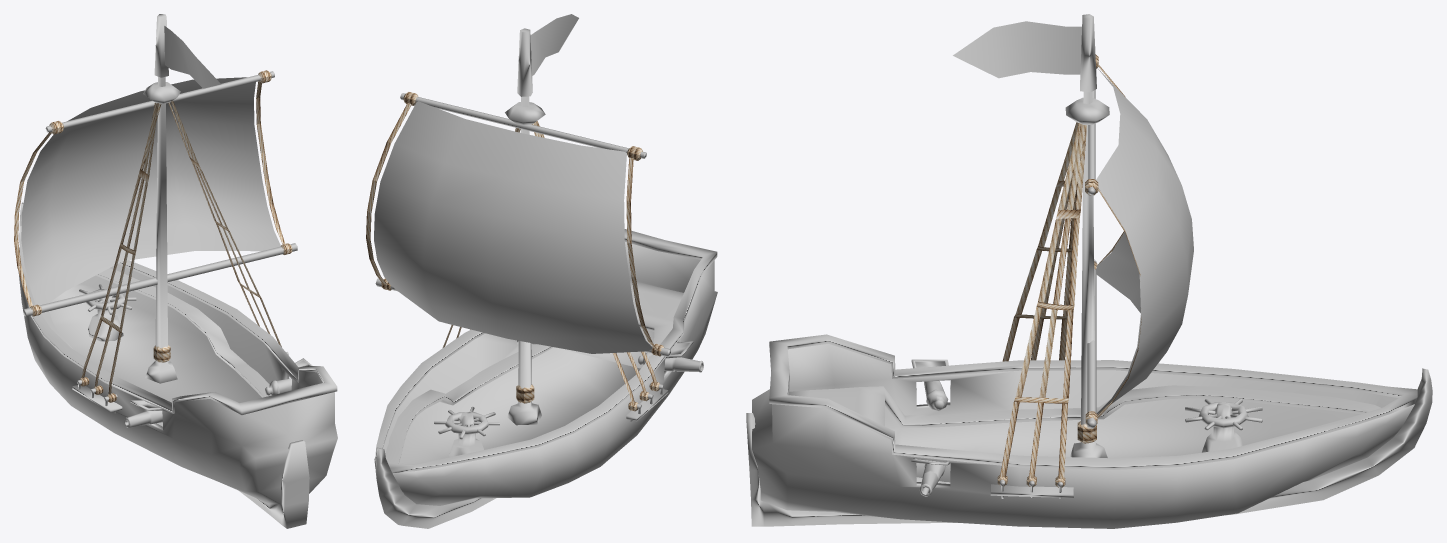
Rendered from NPC_one_sail.fbx.
3 views of the same model, side by side, from view 1: azimuth 30°, elevation 25°; view 2: azimuth 150°, elevation 25°; view 3: azimuth 270°, elevation 25° (orthographic). The views are drawn at different scales.
Parts seen in each view (by area): view 1: Sail, MainBody, Parts, Ropes, Flag; view 2: Sail, MainBody, Parts, Ropes, Flag; view 3: MainBody, Parts, Sail, Ropes, Flag.
Part boxes in pixels (x1,y1,x2,y2): Sail: (21,77,280,305); MainBody: (18,233,337,504); Parts: (19,14,337,528); Ropes: (14,70,292,402); Flag: (164,26,221,88); Sail: (374,101,652,353); MainBody: (374,242,717,505); Parts: (375,28,717,528); Ropes: (366,91,664,411); Flag: (530,14,578,75); MainBody: (752,344,1414,528); Parts: (746,14,1432,526); Sail: (1096,68,1193,413); Ropes: (997,54,1141,487); Flag: (953,21,1081,78).
Bounding box in the file's own units: 3836 × 5555 × 6837.
